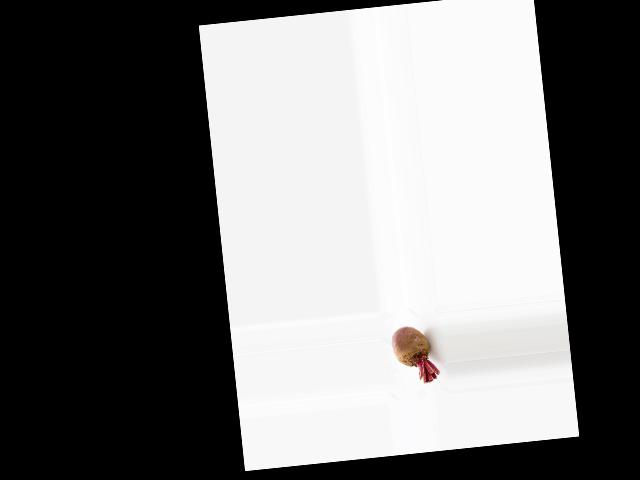beet: (390, 323, 441, 385)
